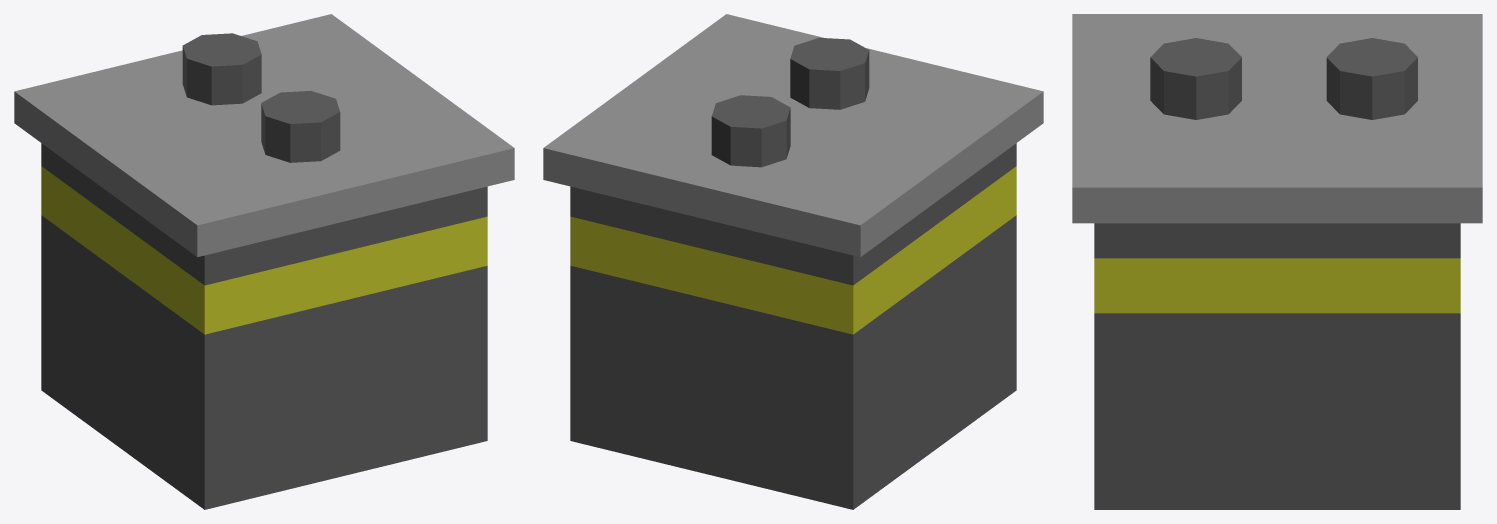
The model's file is BatterySmall.fbx.
The picture shows the model from 3 angles, left to right: view 1: azimuth 30°, elevation 25°; view 2: azimuth 150°, elevation 25°; view 3: azimuth 270°, elevation 25°; orthographic projection. The views are drawn at different scales.
Parts seen in each view (by area): view 1: Cylinder_2; view 2: Cylinder_2; view 3: Cylinder_2.
Part boxes in pixels (x1,y1,x2,y2): Cylinder_2: [14, 14, 514, 509]; Cylinder_2: [543, 14, 1043, 509]; Cylinder_2: [1072, 14, 1482, 509].
Size of the model in its own units: 62.8 by 63.34 by 62.8.
